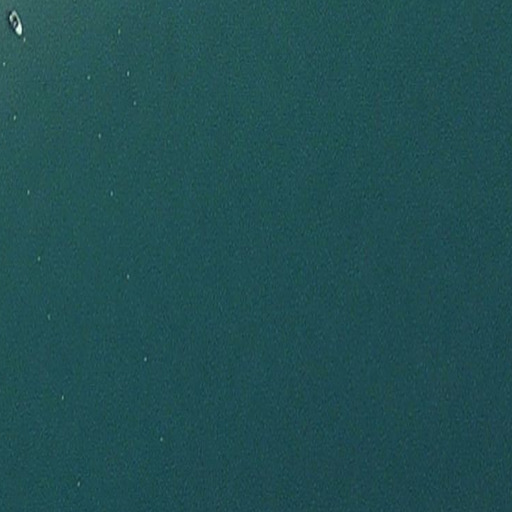ship: (6, 7, 26, 40)
